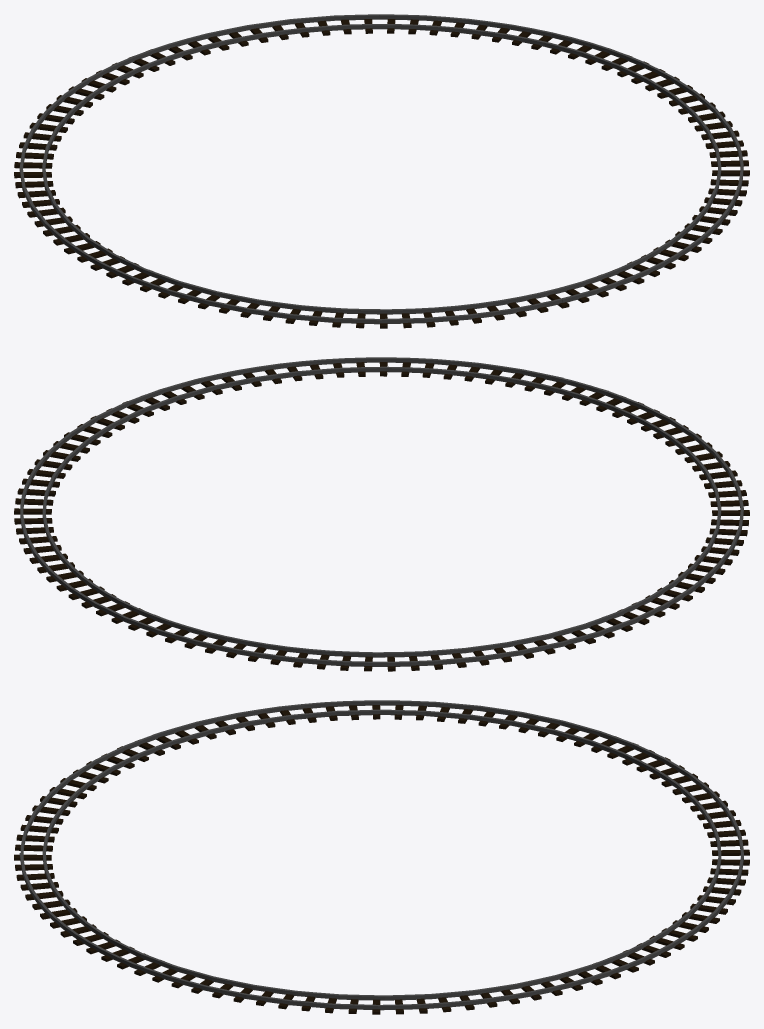
The model's file is Trail.obj.
3 views of the same model, one above another, from view 1: azimuth 30°, elevation 25°; view 2: azimuth 150°, elevation 25°; view 3: azimuth 270°, elevation 25° (orthographic).
Visible parts, largest first — view 1: Cube.002_Cube.017, Cube_Cube.012, Cube.001_Cube.015; view 2: Cube.002_Cube.017, Cube_Cube.012, Cube.001_Cube.015; view 3: Cube.002_Cube.017, Cube_Cube.012, Cube.001_Cube.015.
Part boxes in pixels (bbox=[...]): Cube.002_Cube.017: bbox=[14, 19, 749, 328]; Cube_Cube.012: bbox=[19, 14, 743, 324]; Cube.001_Cube.015: bbox=[42, 24, 721, 314]; Cube.002_Cube.017: bbox=[14, 362, 749, 671]; Cube_Cube.012: bbox=[20, 357, 743, 666]; Cube.001_Cube.015: bbox=[42, 366, 721, 657]; Cube.002_Cube.017: bbox=[14, 705, 749, 1014]; Cube_Cube.012: bbox=[19, 700, 743, 1010]; Cube.001_Cube.015: bbox=[42, 709, 721, 1000].
Size of the model in its own units: 97.97 by 0.8785 by 97.9.
